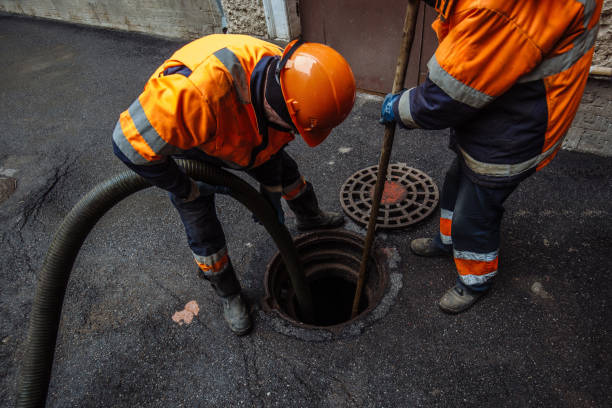open_manhole: (252, 223, 403, 320)
